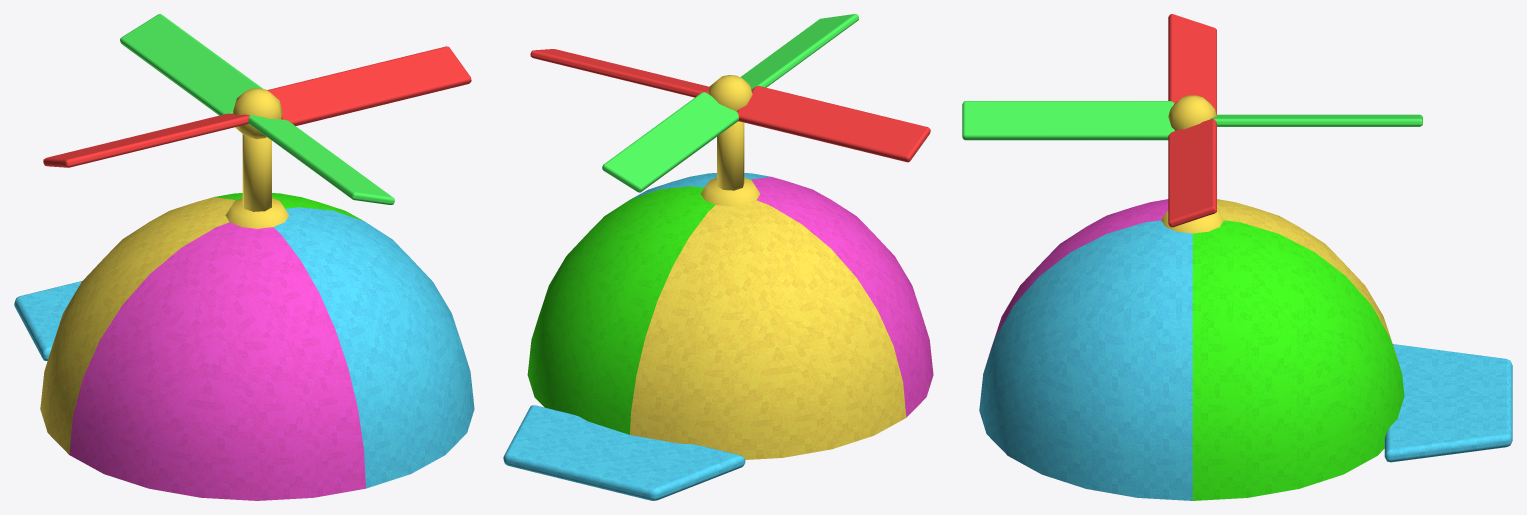
File: x_hat_propeller.glb
3 renders of one model, left to right at view 1: azimuth 30°, elevation 25°; view 2: azimuth 150°, elevation 25°; view 3: azimuth 270°, elevation 25°, orthographic. The views are drawn at different scales.
Parts seen in each view (by area): view 1: hat_body.006, hat_prop; view 2: hat_body.006, hat_prop; view 3: hat_body.006, hat_prop.
Boxes of the visible parts, x1=… form: hat_body.006: x1=14, y1=134, x2=474, y2=500; hat_prop: x1=43, y1=14, x2=471, y2=204; hat_body.006: x1=503, y1=121, x2=933, y2=500; hat_prop: x1=530, y1=14, x2=930, y2=192; hat_body.006: x1=979, y1=199, x2=1512, y2=500; hat_prop: x1=962, y1=14, x2=1422, y2=227.
Bounding box in the file's own units: 1.08 × 0.81 × 1.29.
7 materials, 4 textured.
